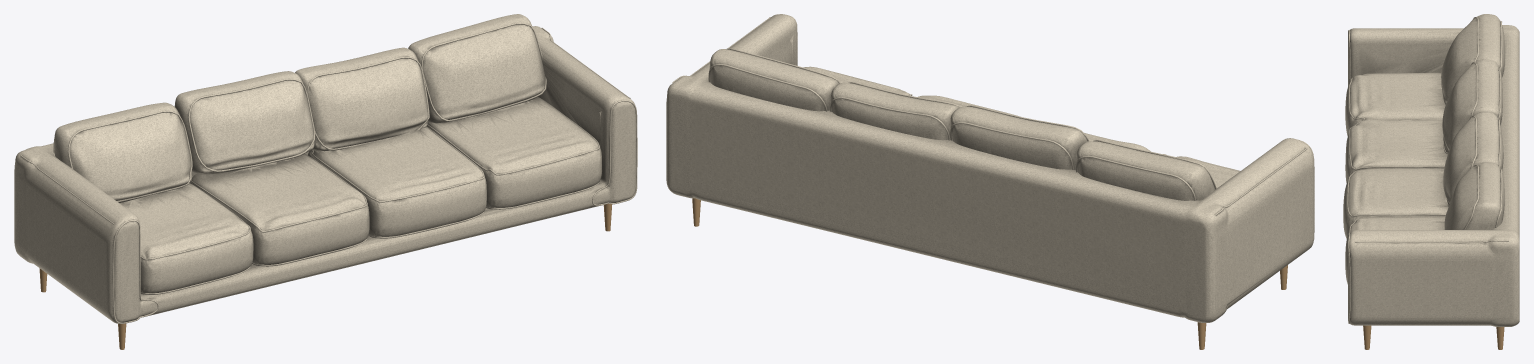
File: lino-natural.gltf
The picture shows the model from 3 angles, left to right: view 1: azimuth 30°, elevation 25°; view 2: azimuth 150°, elevation 25°; view 3: azimuth 270°, elevation 25°; orthographic projection. The views are drawn at different scales.
Visible parts, largest first — view 1: tela_ar, madera_ar; view 2: tela_ar, madera_ar; view 3: tela_ar, madera_ar.
Part boxes in pixels (x1,y1,x2,y2): tela_ar: (14, 14, 637, 323); madera_ar: (39, 203, 612, 349); tela_ar: (666, 14, 1314, 322); madera_ar: (692, 198, 1287, 349); tela_ar: (1343, 14, 1519, 326); madera_ar: (1363, 325, 1504, 349).
Bounding box in the file's own units: 2.7 × 0.8297 × 0.9224.
Materials: 2 (2 with a texture image).
